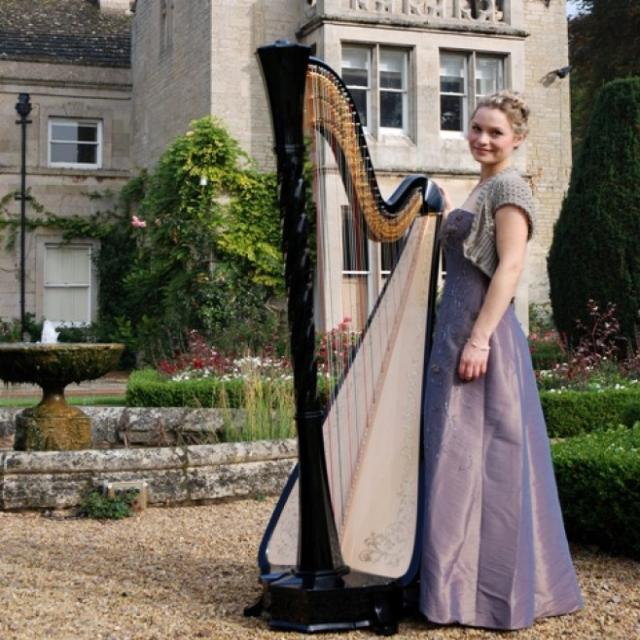harp: (238, 45, 446, 637)
